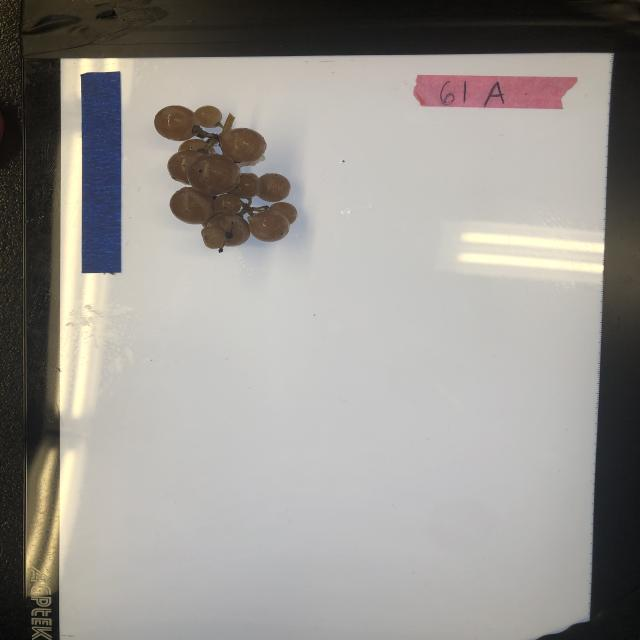grape_cluster: (153, 102, 302, 255)
index: (413, 73, 576, 111)
measure_label: (79, 70, 124, 274)
